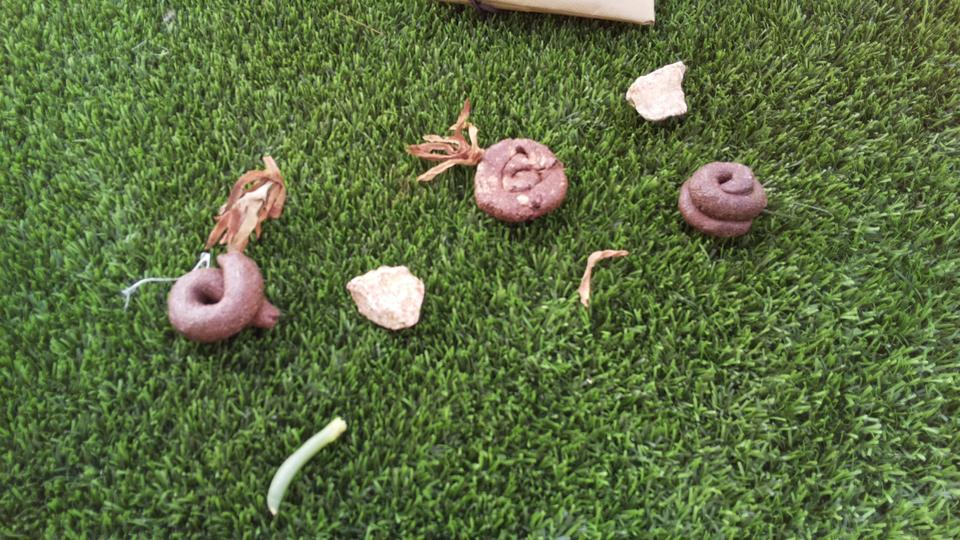poop: (162, 246, 284, 349), (470, 134, 575, 232), (674, 160, 770, 242)
